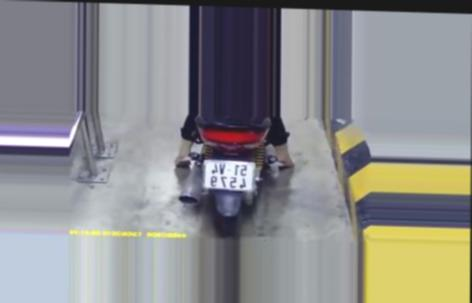License_Plate: (202, 157, 259, 197)
